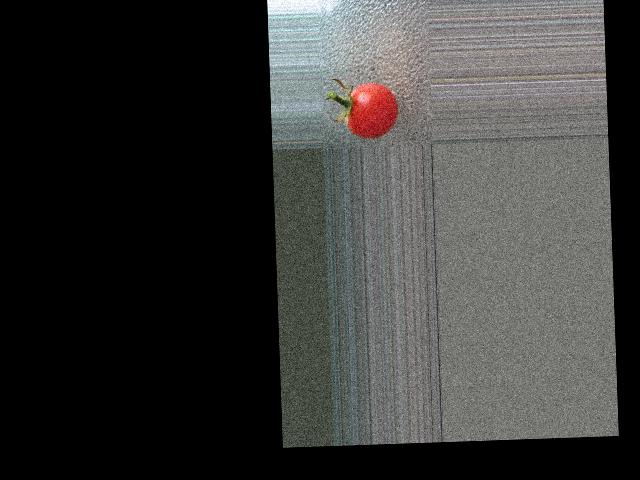tomato: (346, 80, 399, 138)
